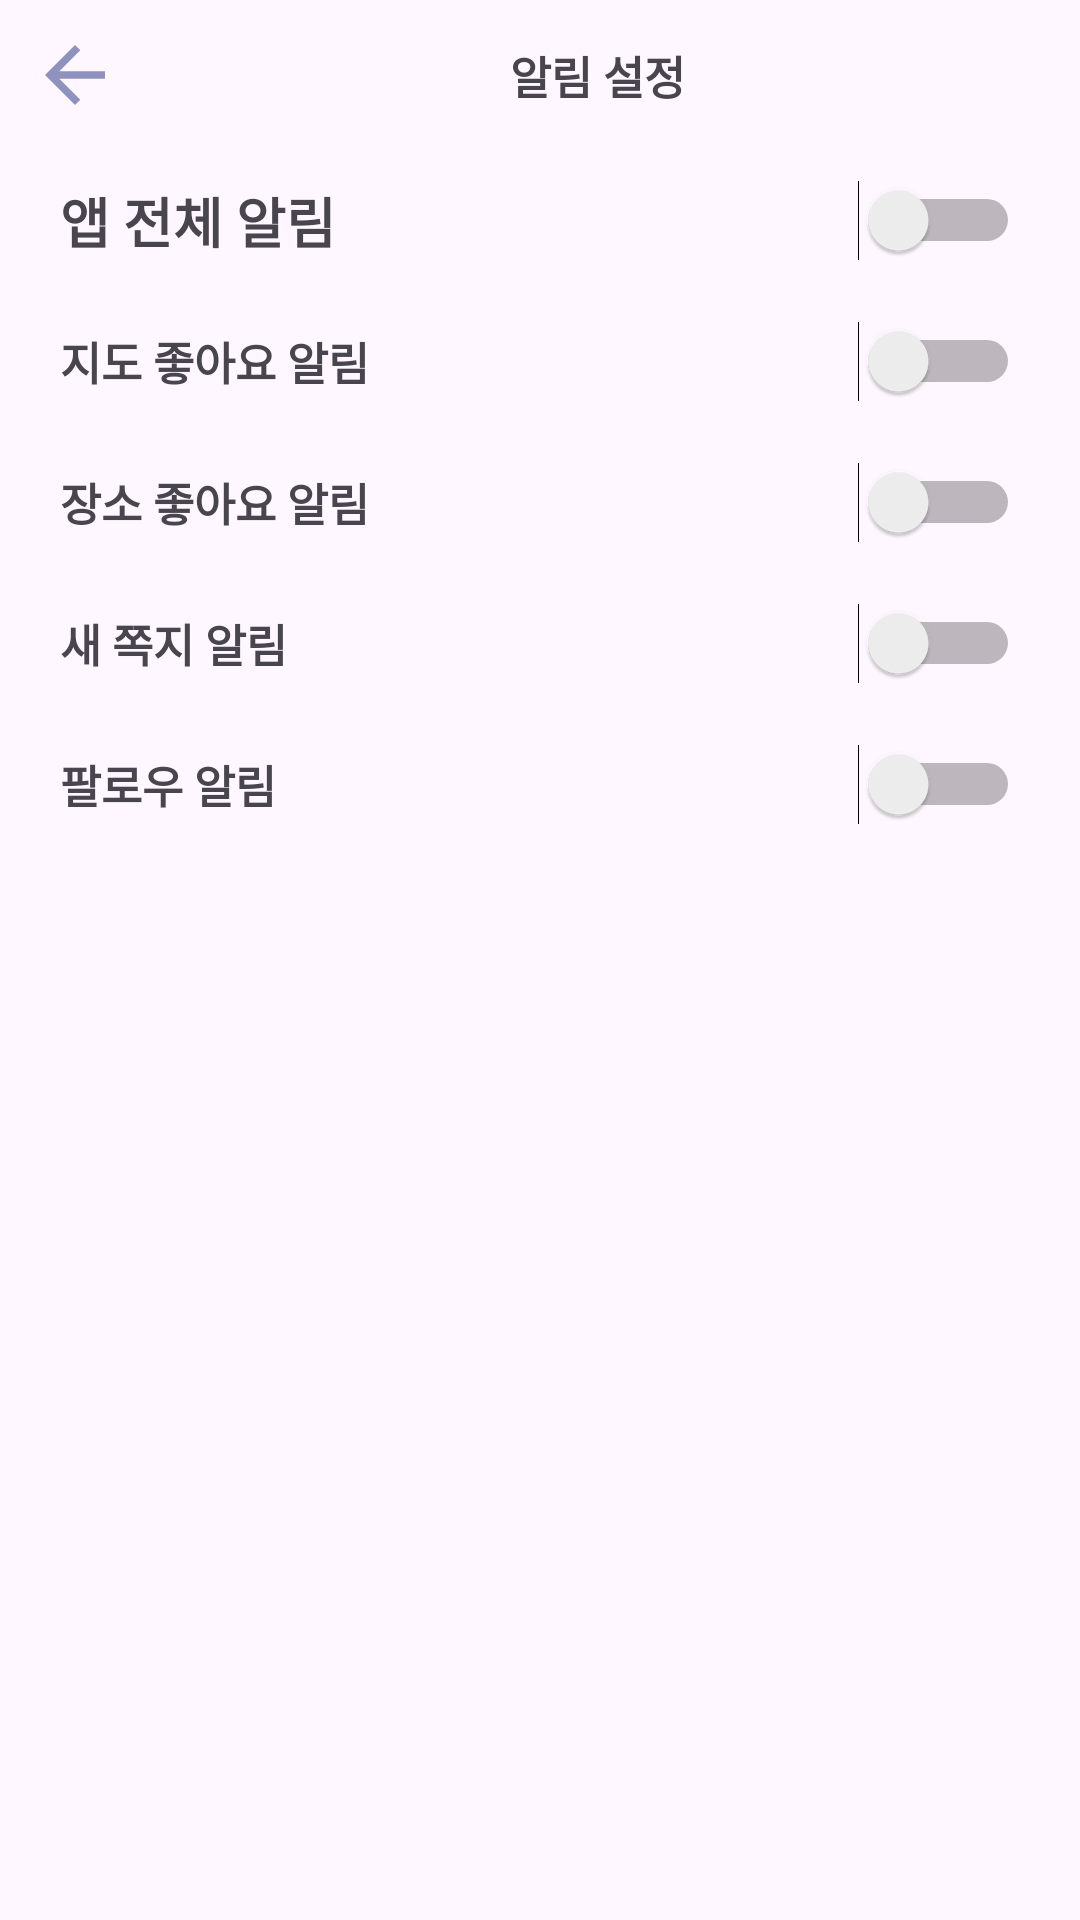

Screen size 1080x1920. Icon name, then its center in pixels as point (x, y):
back: point (75, 75)
